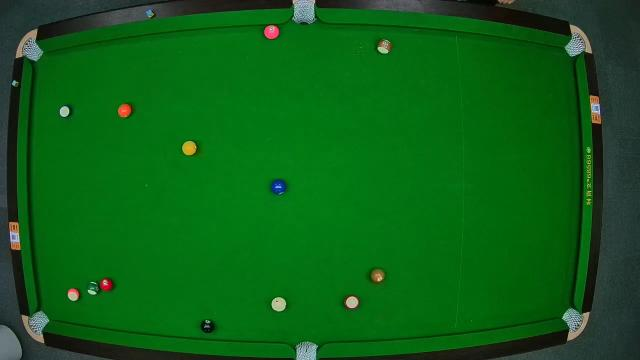bag1: (22, 40, 42, 61)
bag2: (291, 2, 317, 26)
bag3: (566, 34, 586, 57)
bag4: (29, 310, 49, 334)
bag5: (294, 339, 320, 359)
bag6: (564, 311, 582, 331)
ball0: (270, 298, 286, 312)
ball1: (182, 139, 198, 156)
ball10: (58, 103, 72, 118)
ball11: (344, 294, 360, 310)
ball12: (68, 288, 80, 300)
ball14: (85, 280, 99, 296)
ball15: (376, 38, 392, 54)
ball2: (270, 178, 288, 195)
ball3: (100, 277, 114, 291)
ball4: (264, 24, 280, 40)
ball5: (116, 104, 132, 118)
ball7: (370, 268, 384, 284)
ball8: (200, 318, 216, 334)
